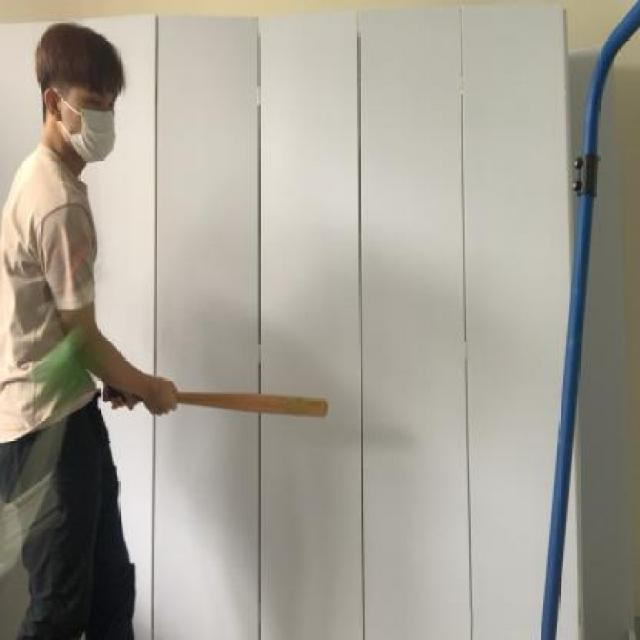baseball: (6, 312, 102, 423)
